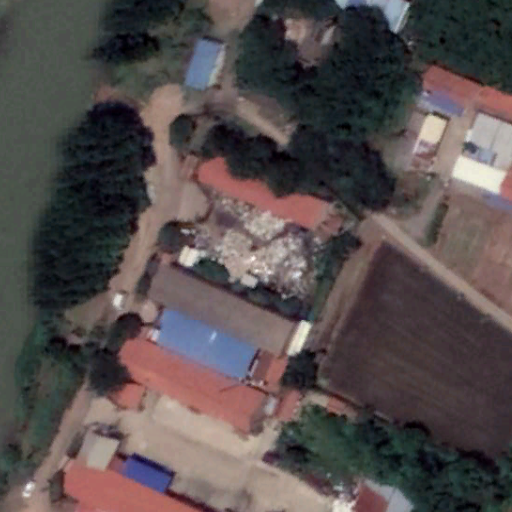msw: (201, 197, 316, 298)
